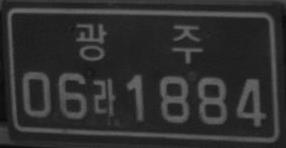0: (20, 71, 51, 118)
1: (122, 72, 151, 121)
4: (236, 77, 266, 127)
6: (56, 71, 88, 119)
8: (196, 75, 228, 125), (158, 75, 190, 124)
광주_D: (75, 21, 203, 65)
라: (92, 77, 115, 117)
